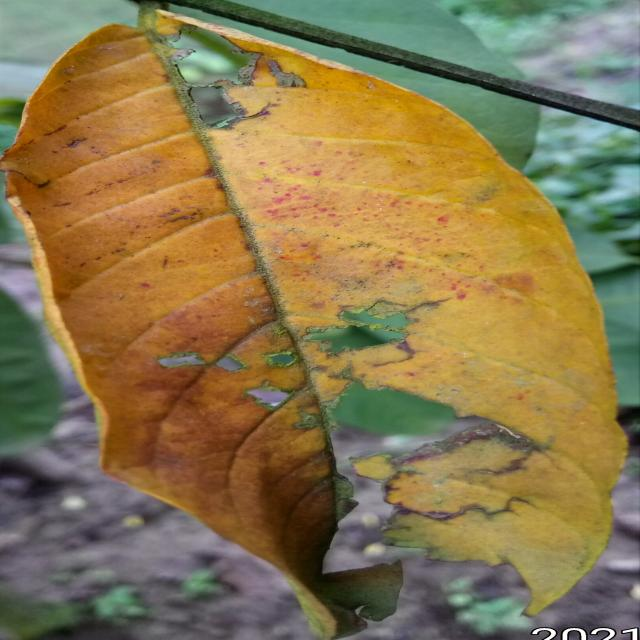Red Rust: (2, 9, 624, 640)
